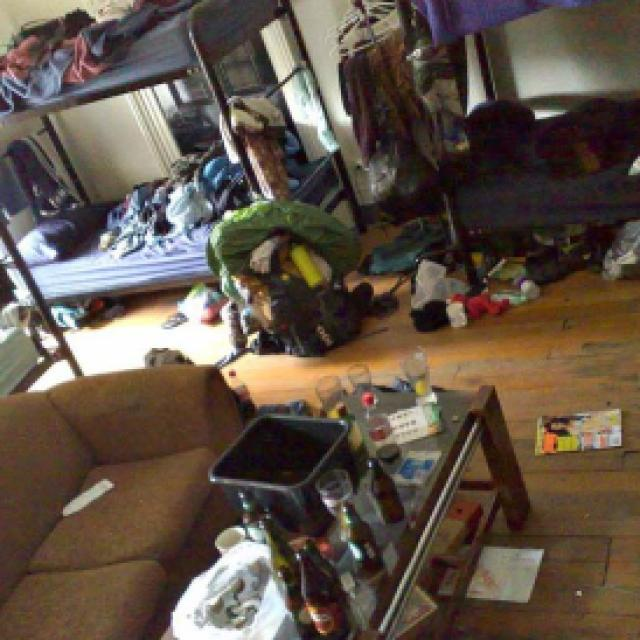mess: (0, 9, 411, 337), (220, 357, 518, 640), (427, 175, 640, 358)
